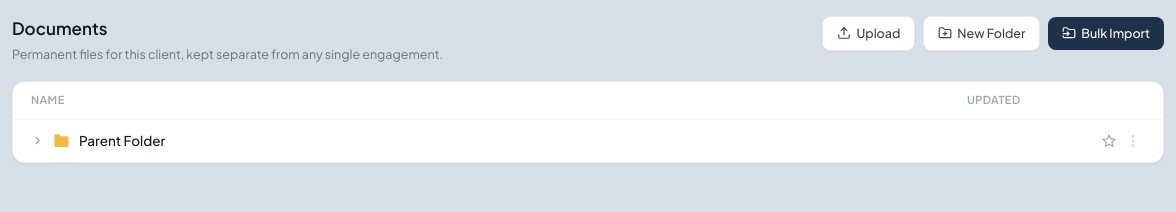
Scenario: FolderBrowser breadcrumb navigation › returns to root and removes breadcrumb when "All" is clicked
Double-click the text "Parent Folder" at (122, 141), box [79,131,165,151]
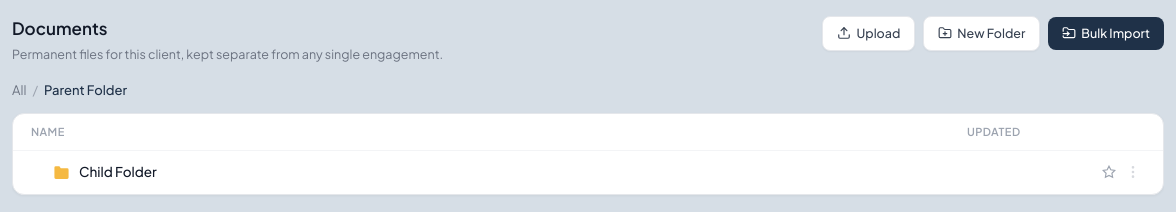
Double-click the text "Child Folder" at (118, 172), box [79,162,157,183]
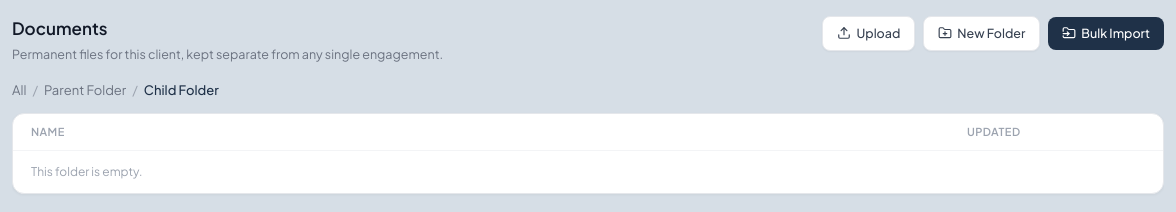
Expected: the button "All" is shown
Click the button "All" at (19, 91), box [12,81,26,101]
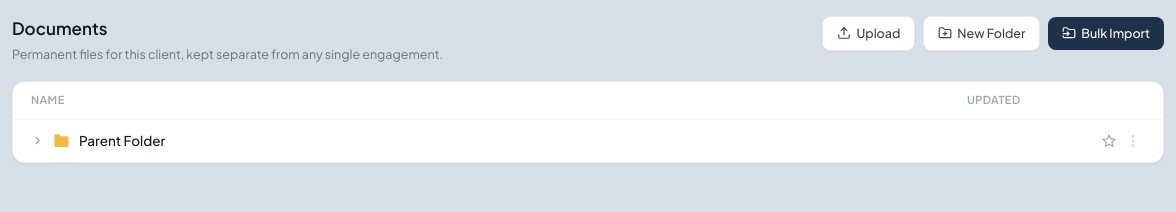
Expected: the text "Parent Folder" is shown, [79,131,165,151]
Expected: the button "All" is gone
